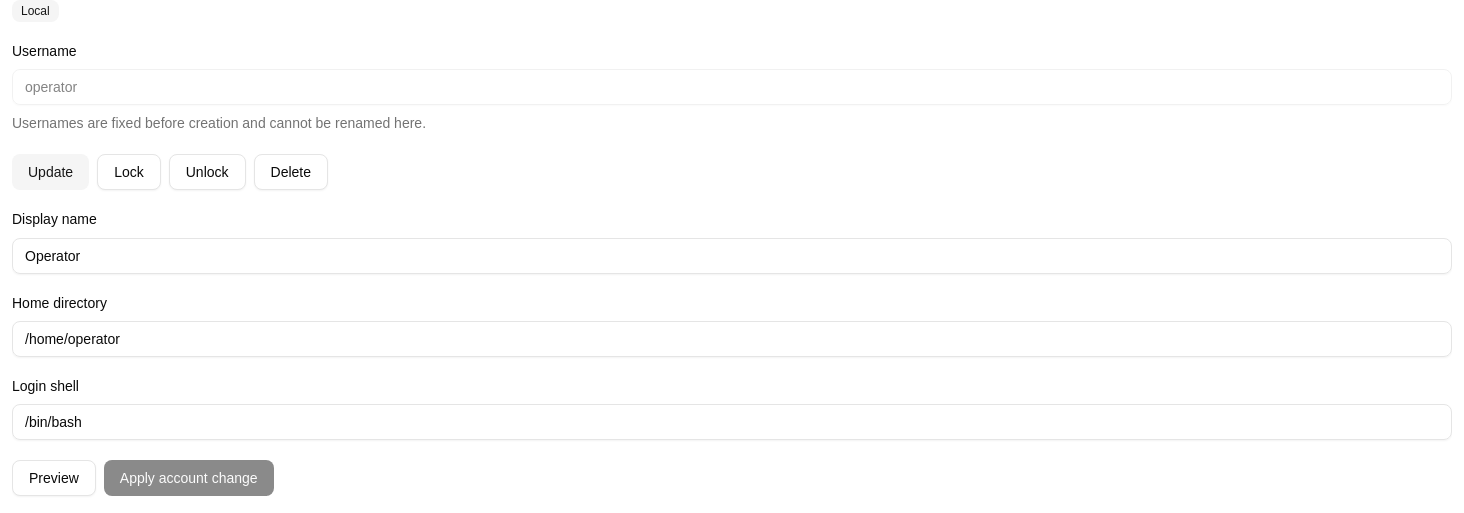
Test: UserAccountManager › requires typed confirmation for delete
Click the button "Delete" at (291, 172), box top-left (254, 154), bottom-right (328, 190)
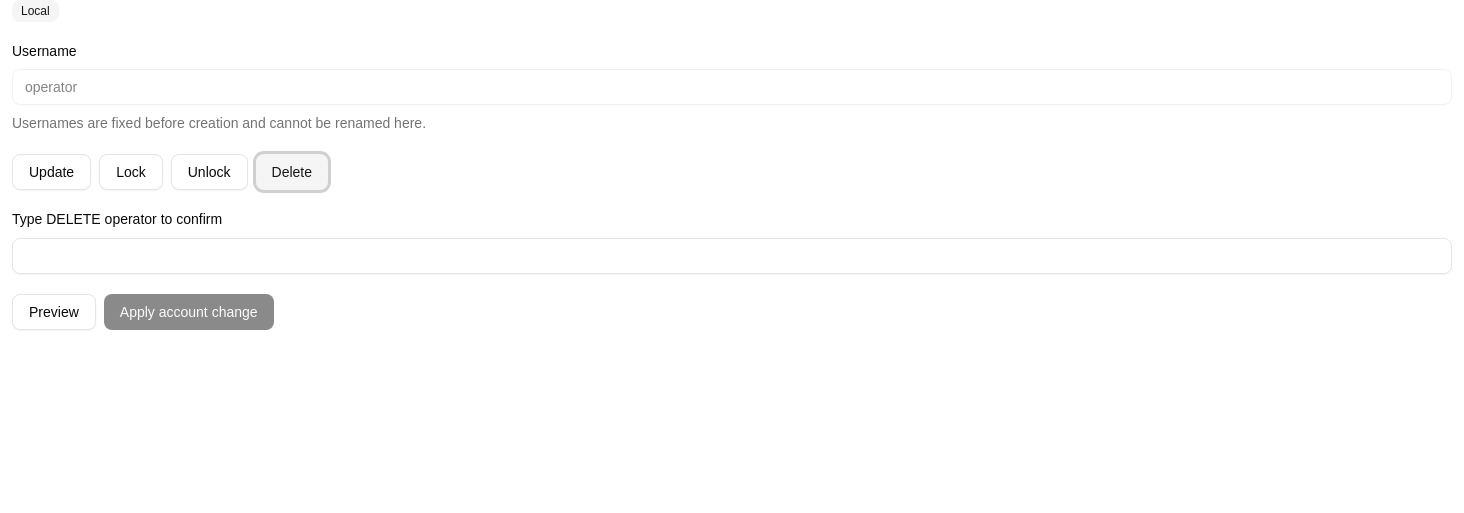
Expected: the button "Apply account change" is disabled, top-left (104, 294), bottom-right (274, 330)
Click the button "Preview" at (54, 312), box top-left (12, 294), bottom-right (96, 330)
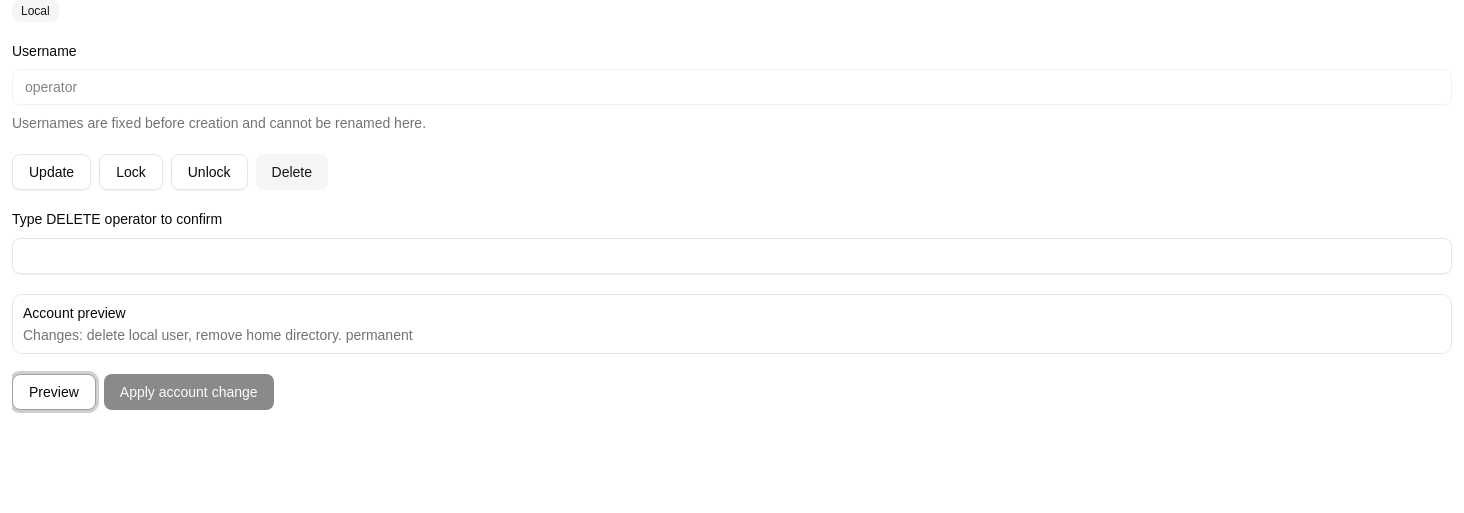
Expected: the text "Account preview" is shown, top-left (23, 304), bottom-right (126, 320)
Type "DELETE operator" into the field labelled "Type DELETE operator to confirm" at (732, 256), box top-left (12, 238), bottom-right (1452, 274)
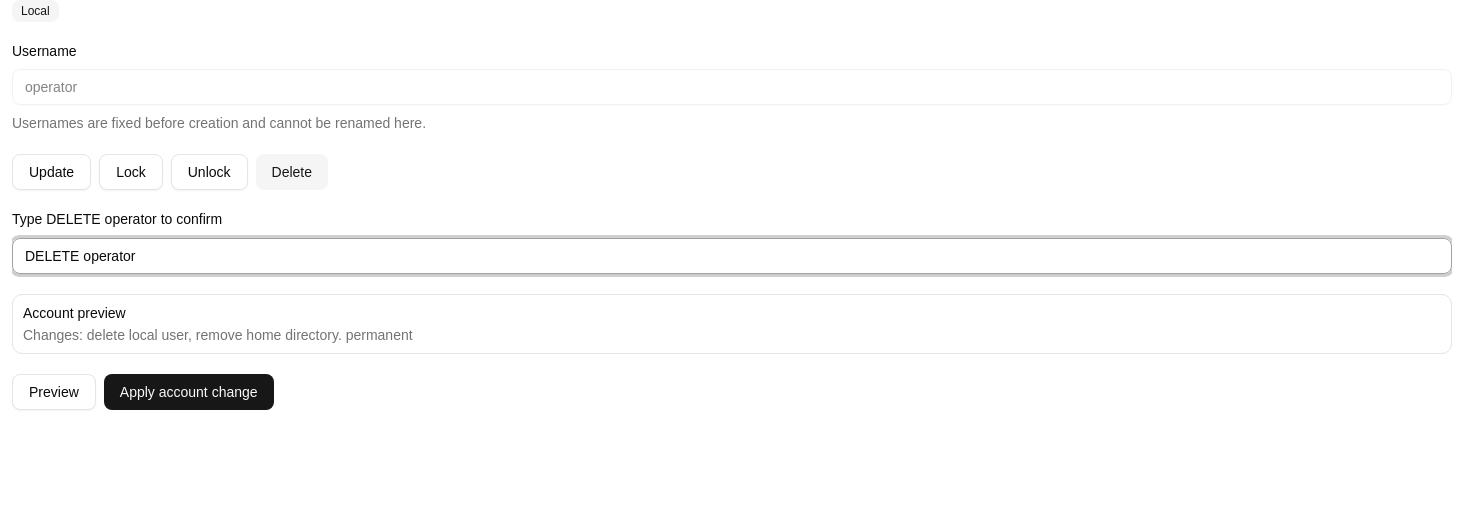
Expected: the button "Apply account change" is enabled, top-left (104, 374), bottom-right (274, 410)
